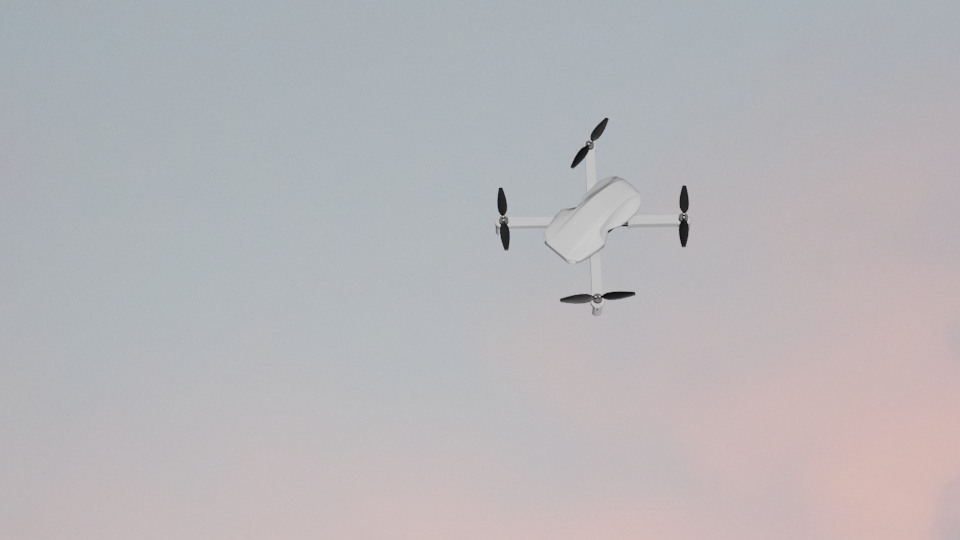drone: (492, 115, 692, 315)
